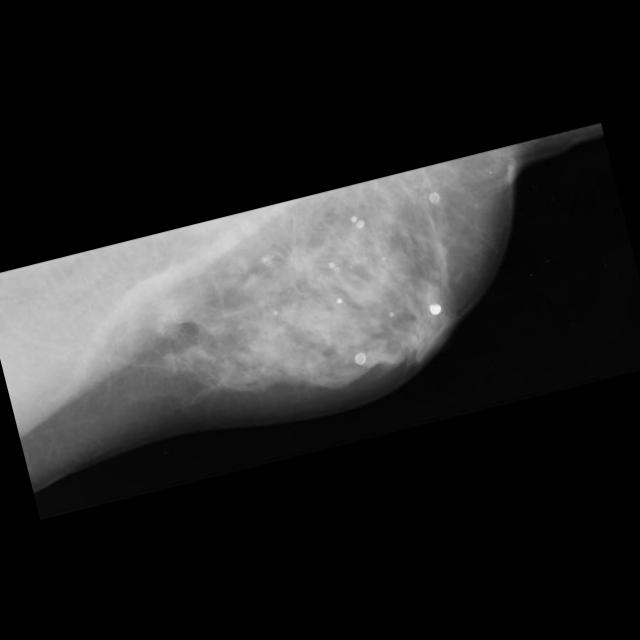SPIC: (260, 220, 332, 292)
